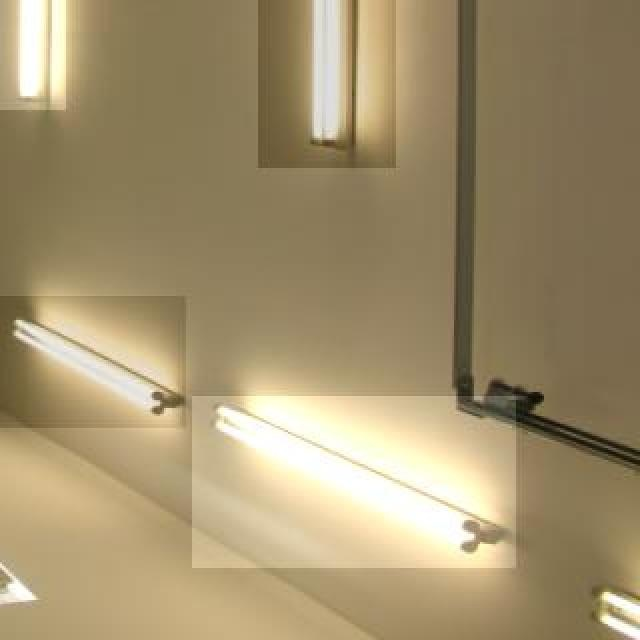fluorescent tube: (215, 404, 500, 560), (2, 309, 169, 416), (282, 0, 364, 158), (6, 0, 80, 104)
